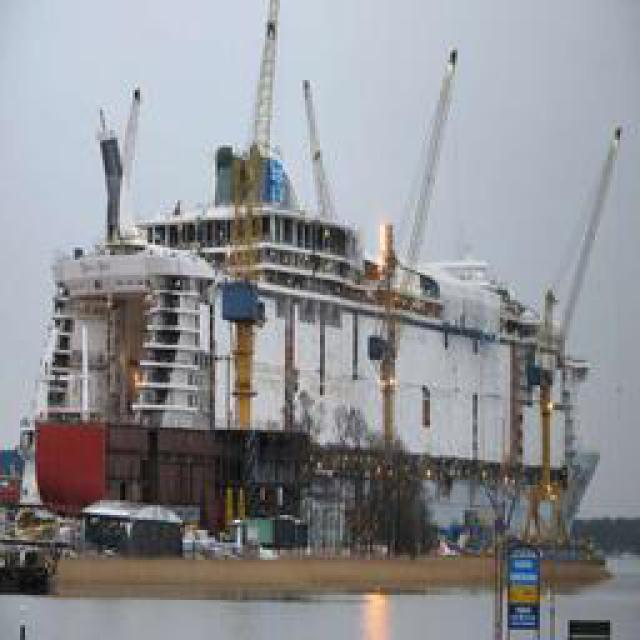Ship: (4, 27, 614, 575)
